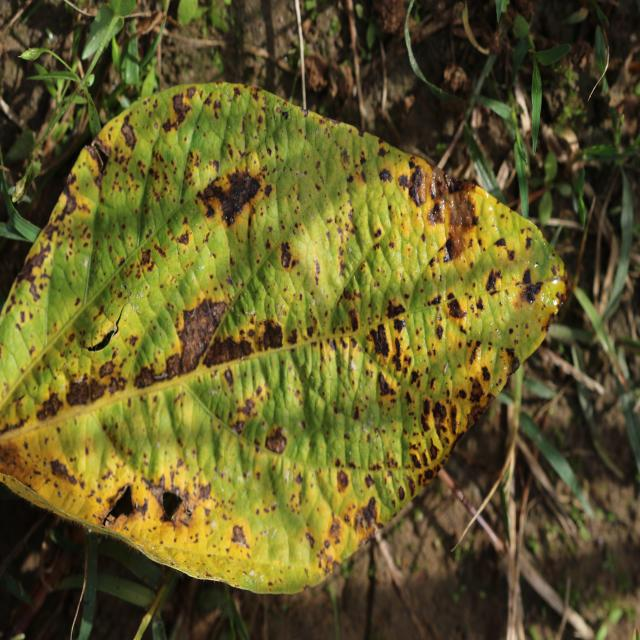Bacterial_Blight: (424, 169, 486, 272), (173, 290, 223, 376), (147, 474, 198, 526), (215, 169, 263, 222), (438, 410, 481, 463), (83, 303, 126, 353), (24, 240, 51, 279), (353, 496, 380, 534), (518, 270, 544, 305), (65, 376, 92, 407), (258, 320, 284, 351), (407, 165, 426, 207), (35, 392, 62, 420), (82, 142, 105, 174), (169, 92, 190, 126), (369, 324, 391, 356), (265, 426, 288, 455), (120, 117, 138, 149), (230, 524, 249, 548), (378, 372, 395, 398), (386, 299, 406, 319), (469, 379, 484, 403), (280, 242, 293, 269), (433, 401, 448, 424), (347, 308, 360, 332), (336, 469, 349, 491), (176, 228, 191, 247), (378, 167, 393, 184), (141, 248, 152, 266), (481, 365, 491, 382), (510, 356, 520, 373), (397, 485, 406, 501), (282, 110, 289, 120)
Soybean: (0, 83, 566, 592)
